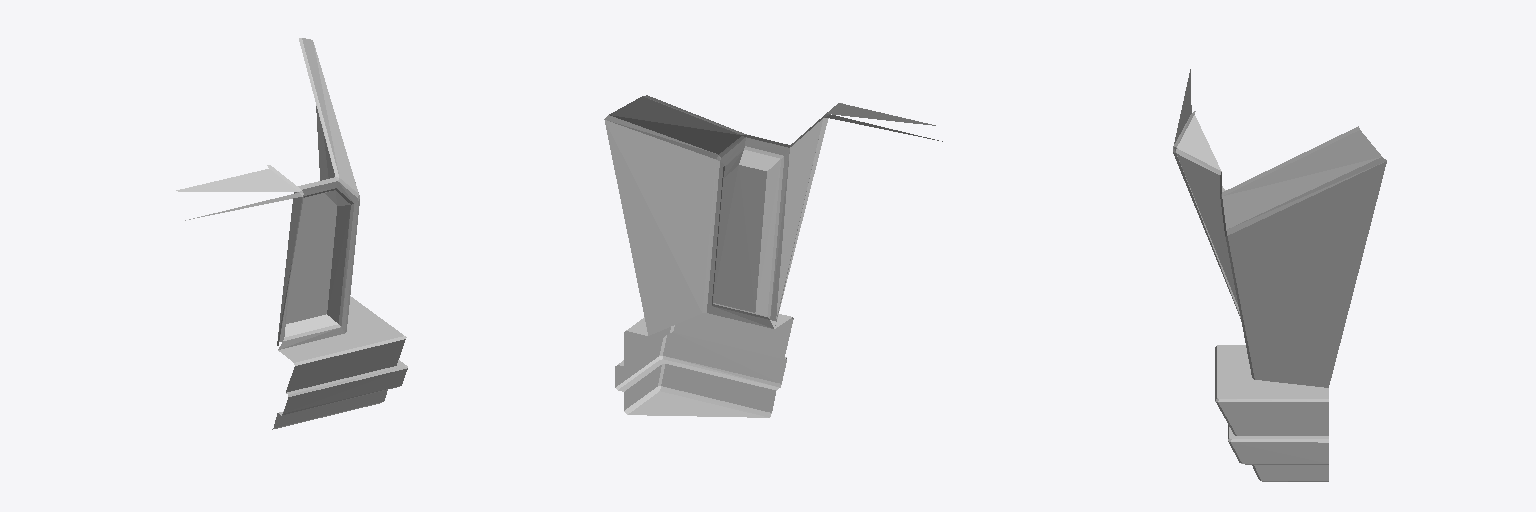
File: shard5.obj
3 renders of one model, left to right at view 1: azimuth 30°, elevation 25°; view 2: azimuth 150°, elevation 25°; view 3: azimuth 270°, elevation 25°, orthographic.
Parts seen in each view (by area): view 1: defaultMaterial.003; view 2: defaultMaterial.003; view 3: defaultMaterial.003.
Part boxes in pixels (x1,y1,x2,y2): defaultMaterial.003: (176,38,407,429); defaultMaterial.003: (604,95,942,417); defaultMaterial.003: (1173,69,1386,481).
Size of the model in its own units: 5.8 by 7.33 by 4.2.